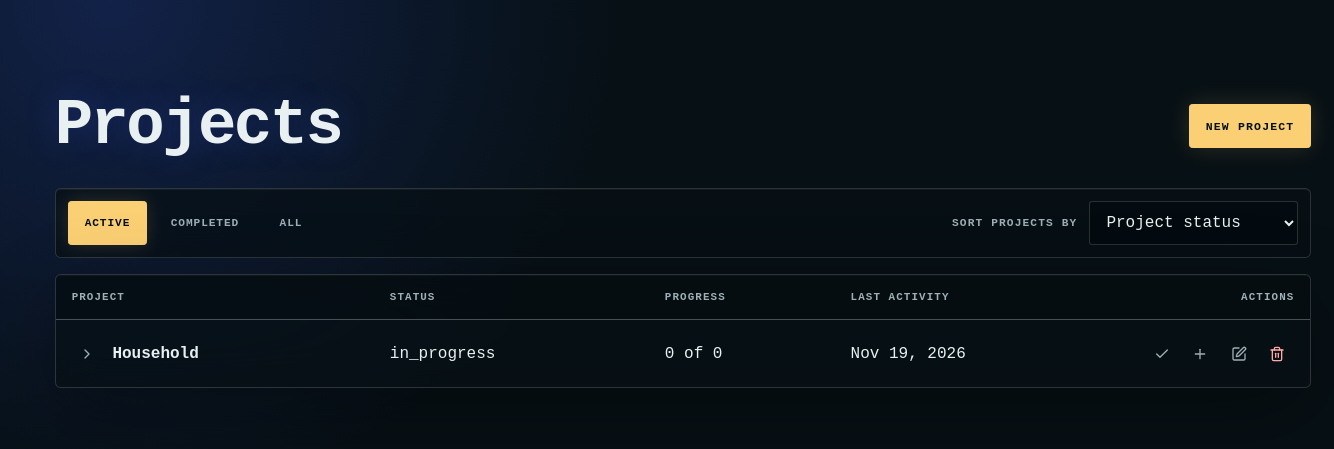
DashboardPage project synchronization › keeps project mutation failures with the initiating row
Expected: the text "Household" is shown, [112,345,199,363]
Click the button named "Complete Household". click: (1162, 354)
box: [1145,336,1179,371]
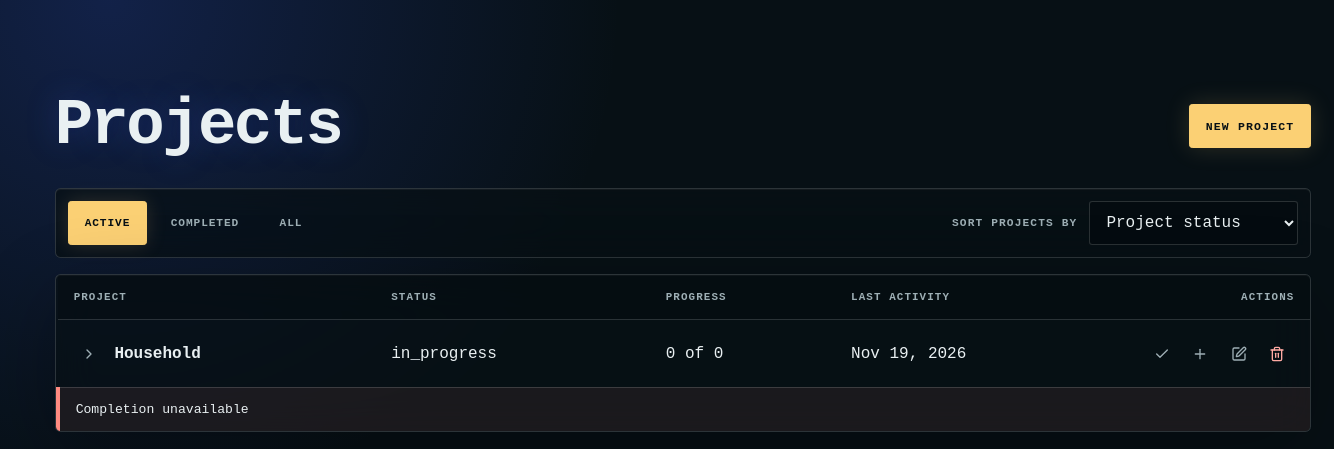
Now the message reads "Completion unavailable", box [76,402,249,417]
